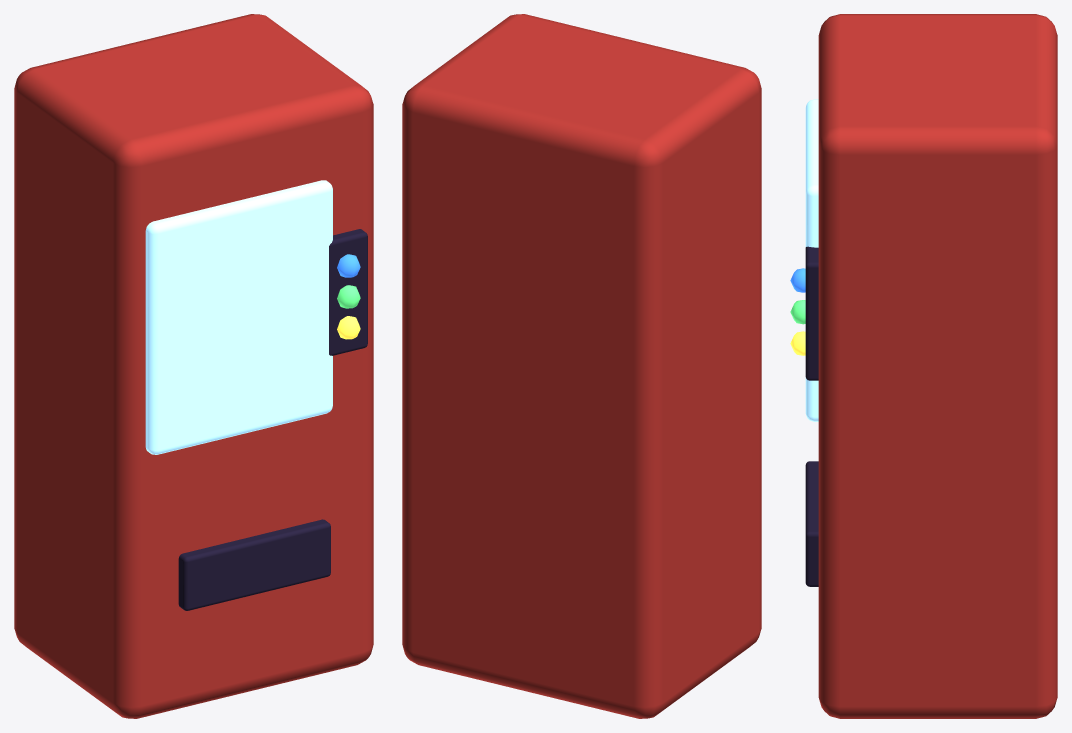
Rendered from machine.glb.
3 views of the same model, side by side, from view 1: azimuth 30°, elevation 25°; view 2: azimuth 150°, elevation 25°; view 3: azimuth 270°, elevation 25° (orthographic). The views are drawn at different scales.
Parts seen in each view (by area): view 1: machine; view 2: machine; view 3: machine.
Boxes of the visible parts, bbox=[...] form: machine: bbox=[14, 14, 373, 718]; machine: bbox=[402, 14, 761, 718]; machine: bbox=[790, 14, 1057, 718].
Size of the model in its own units: 0.7 by 1.5 by 0.615.
